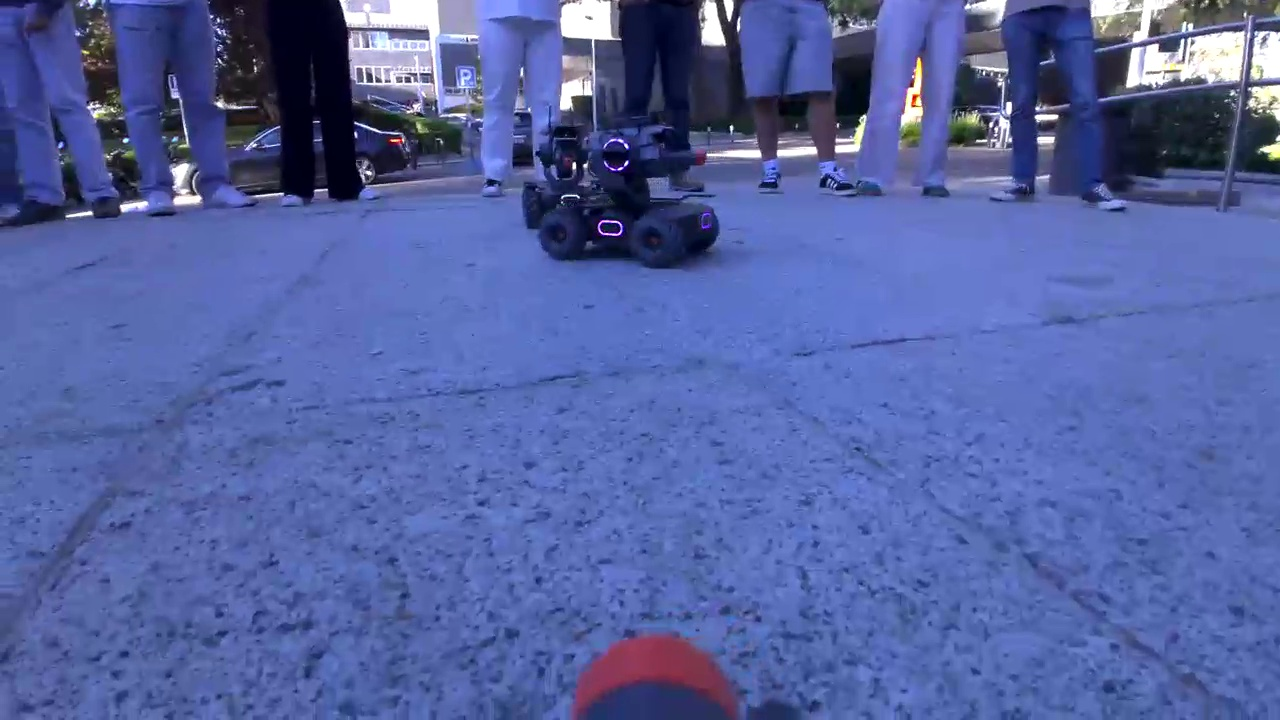robot: (531, 144, 724, 269), (503, 133, 603, 218)
